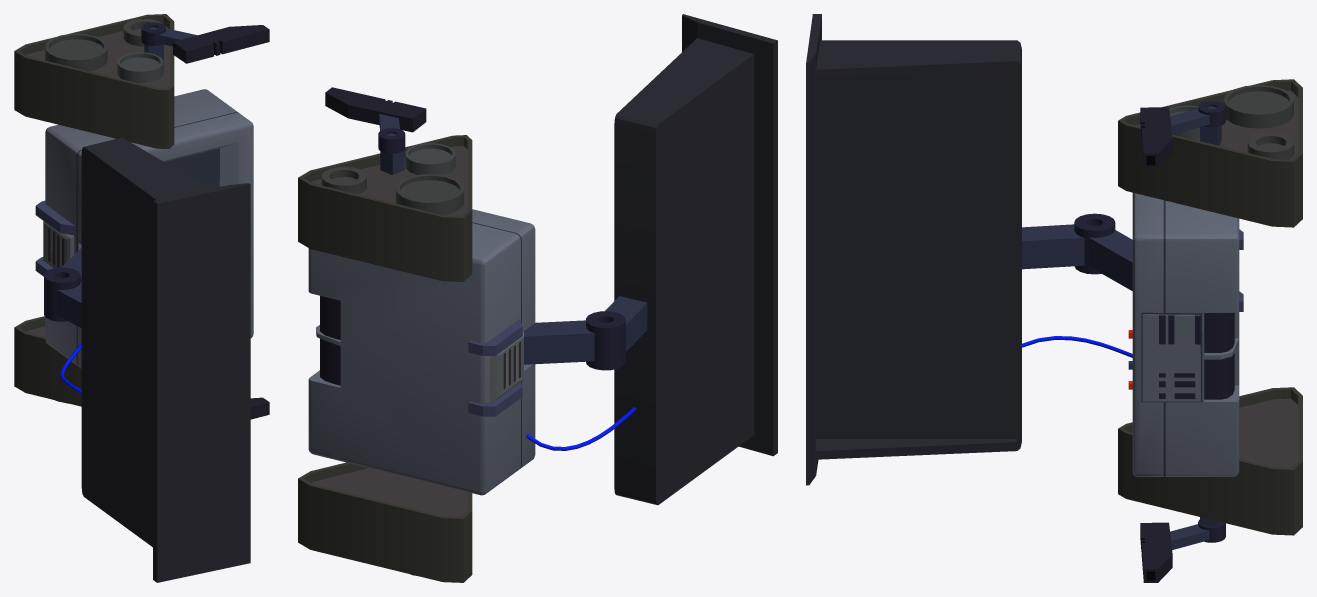
The model's file is Captcha.fbx.
3 views of the same model, side by side, from view 1: azimuth 30°, elevation 25°; view 2: azimuth 150°, elevation 25°; view 3: azimuth 270°, elevation 25° (orthographic). The views are drawn at different scales.
Visible parts, largest first — view 1: Cube.002; view 2: Cube.002; view 3: Cube.002.
Boxes of the visible parts, <box> form: Cube.002: <box>14,14,269,582</box>; Cube.002: <box>298,14,777,582</box>; Cube.002: <box>806,14,1302,582</box>.
Size of the model in its own units: 319 by 450 by 472.
